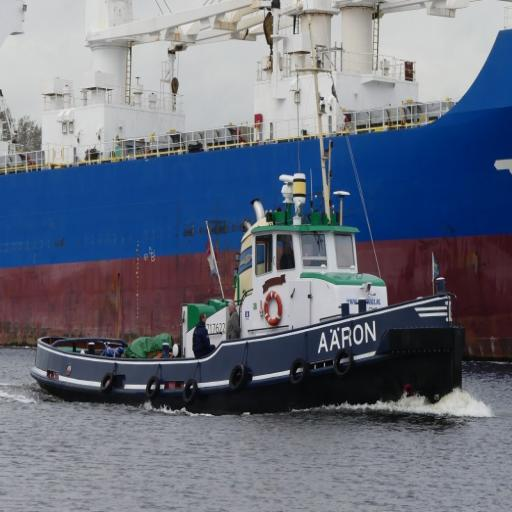tugboat: (22, 169, 472, 423)
